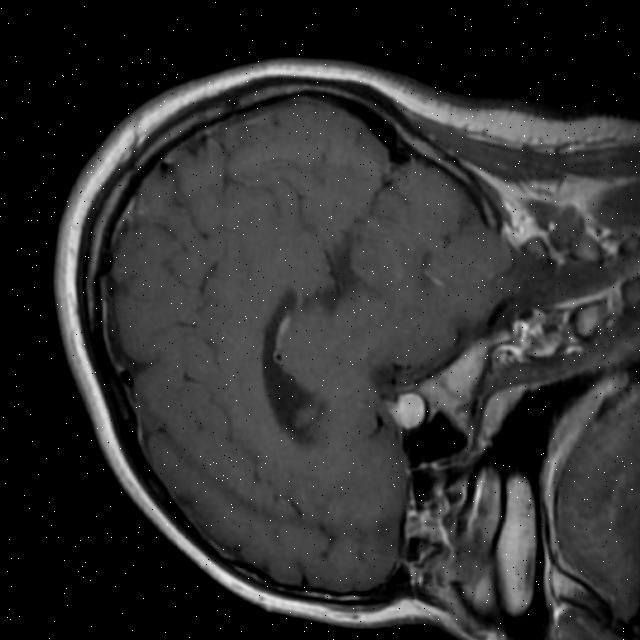Pituitary: (387, 389, 427, 430)
